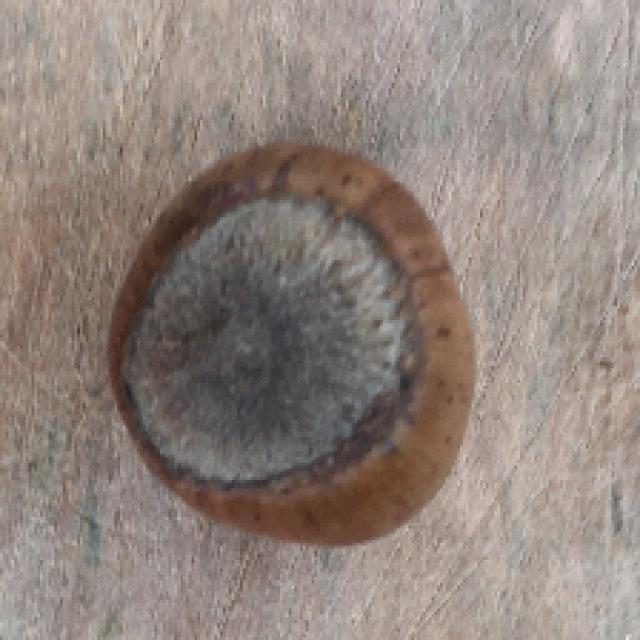qualityHazelnut: (99, 134, 480, 554)
